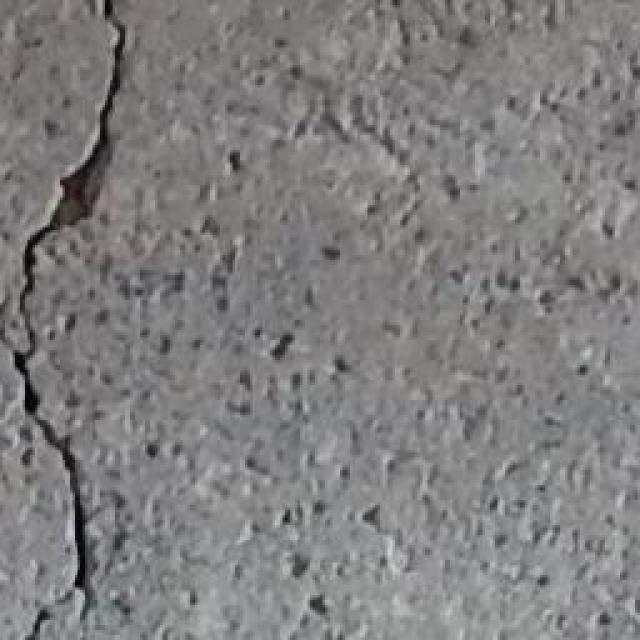concrete-crack: (11, 0, 130, 640)
